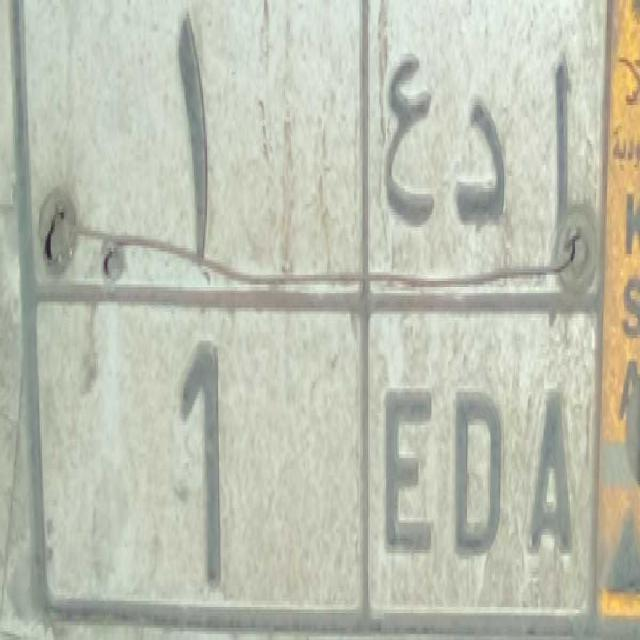license_plate: (29, 291, 596, 615)
